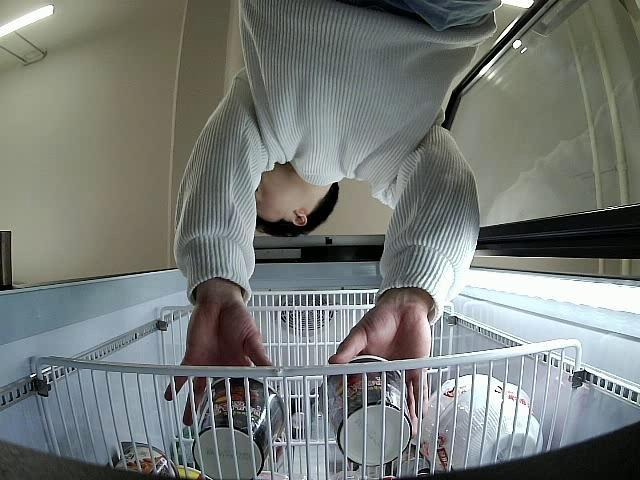08_buldak_S: (188, 374, 286, 480), (325, 355, 416, 466)
